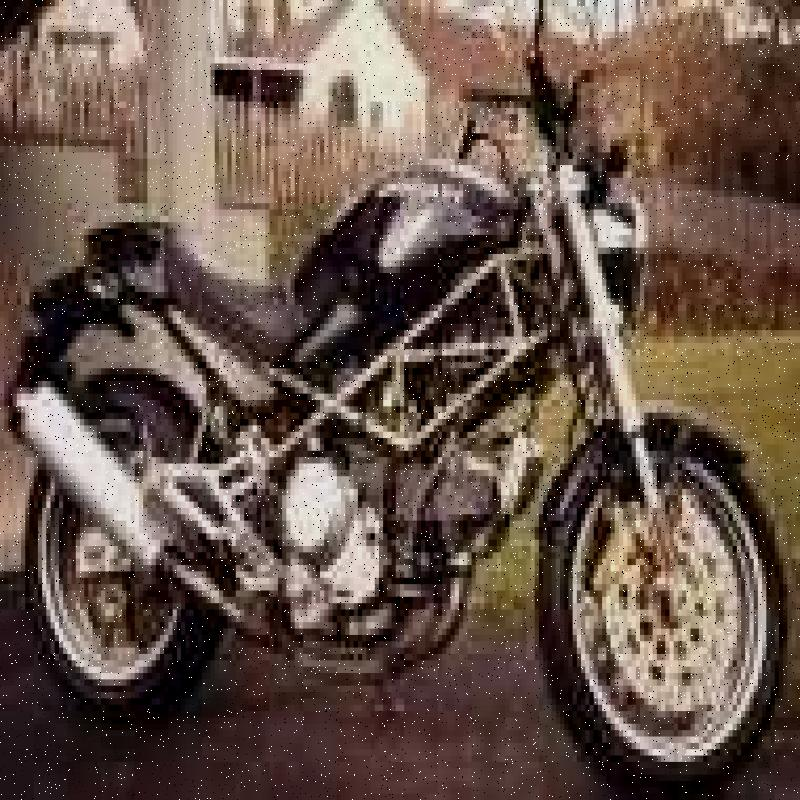bike: (23, 36, 789, 800)
